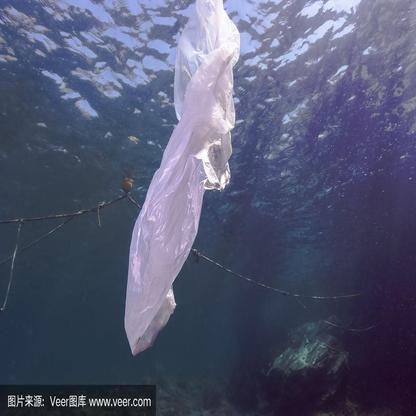plastic bag: (123, 1, 242, 368)
